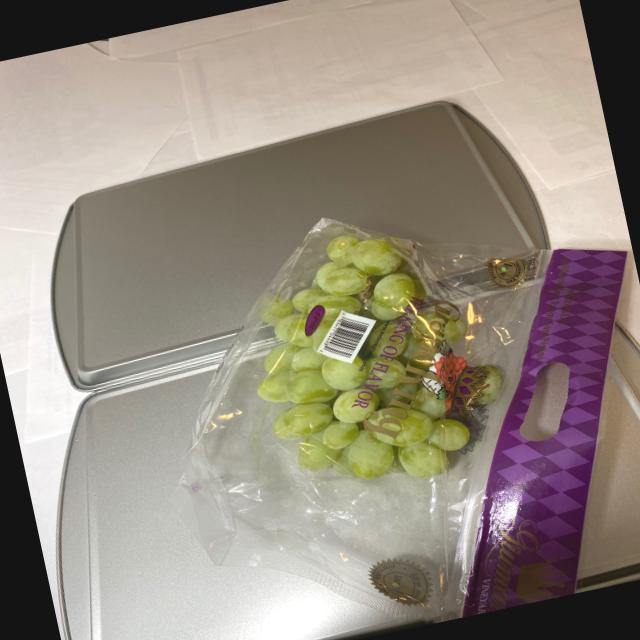grapes: (223, 199, 529, 515)
